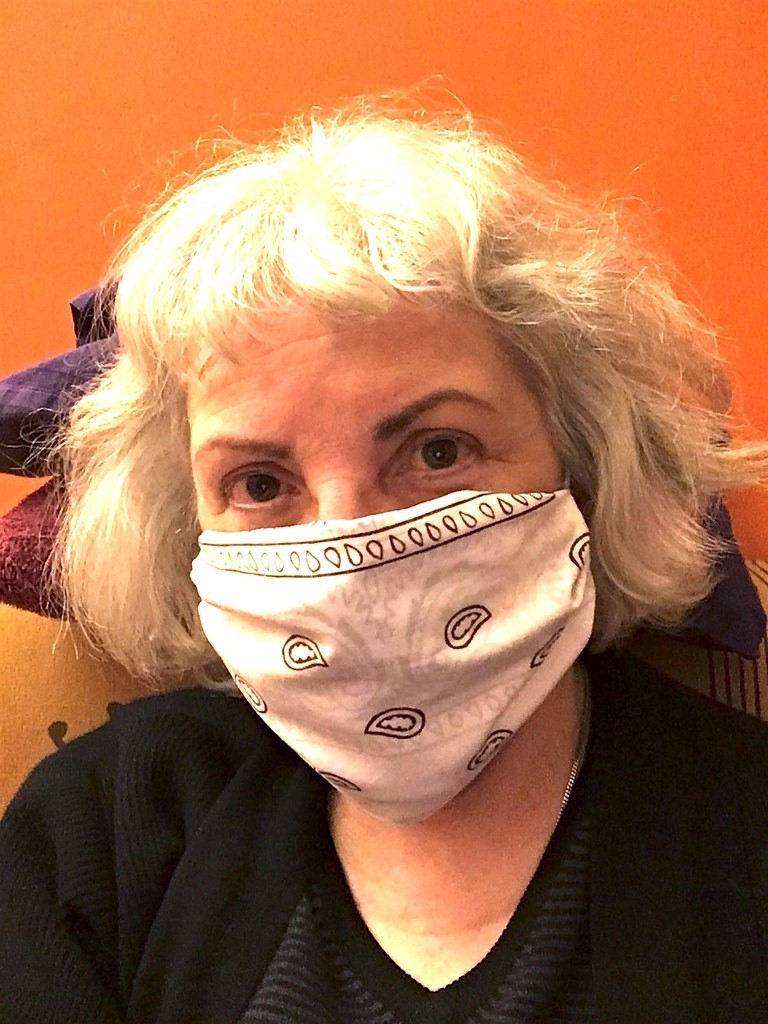face_with_mask: (157, 163, 628, 825)
